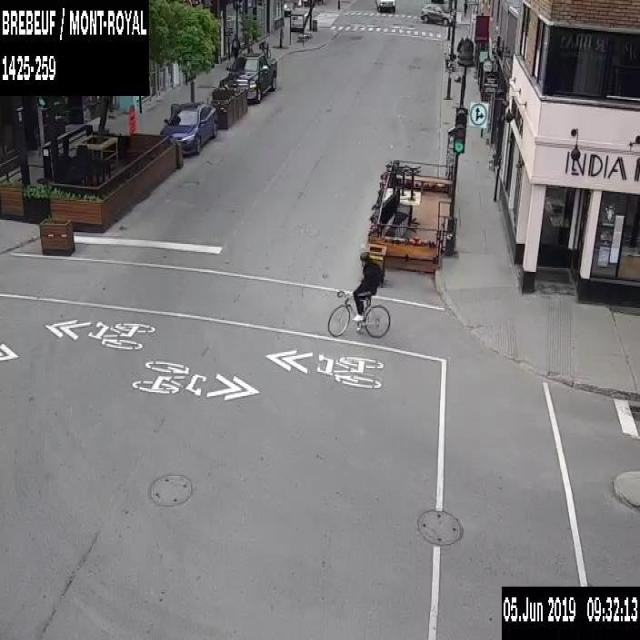construction: (128, 104, 137, 133)
cyclist: (325, 249, 390, 339)
pedestrian: (232, 34, 240, 62)
vehicle: (158, 99, 218, 156), (220, 50, 277, 106), (420, 0, 454, 27), (374, 0, 396, 12)
